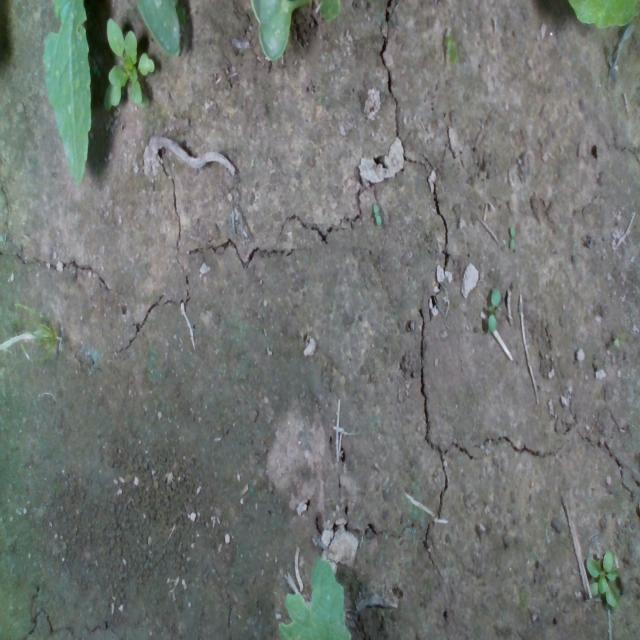weed: (585, 547, 619, 607), (487, 284, 501, 332), (372, 202, 382, 226), (508, 223, 514, 250)
